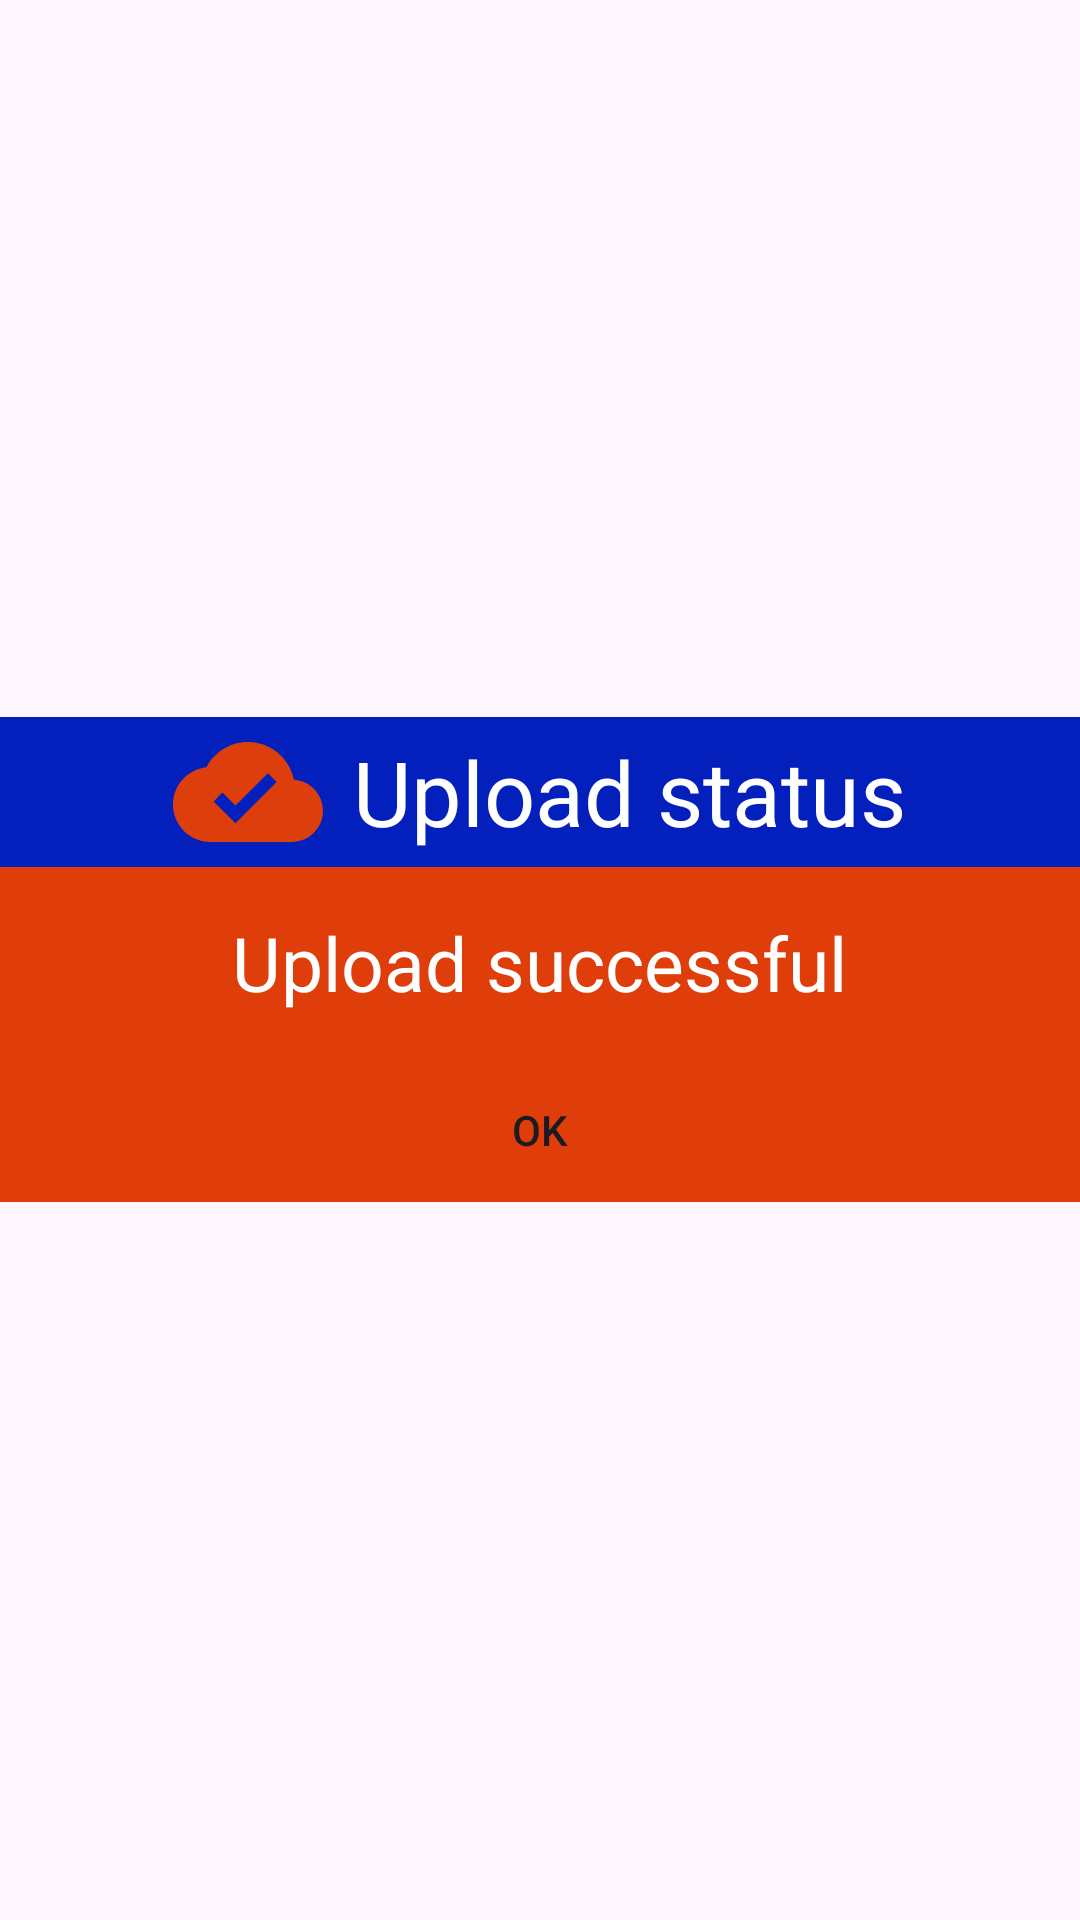

Screen size 1080px×1920px. Icon name, then its center in pixels as (x,y):
upload done: (248,792)
